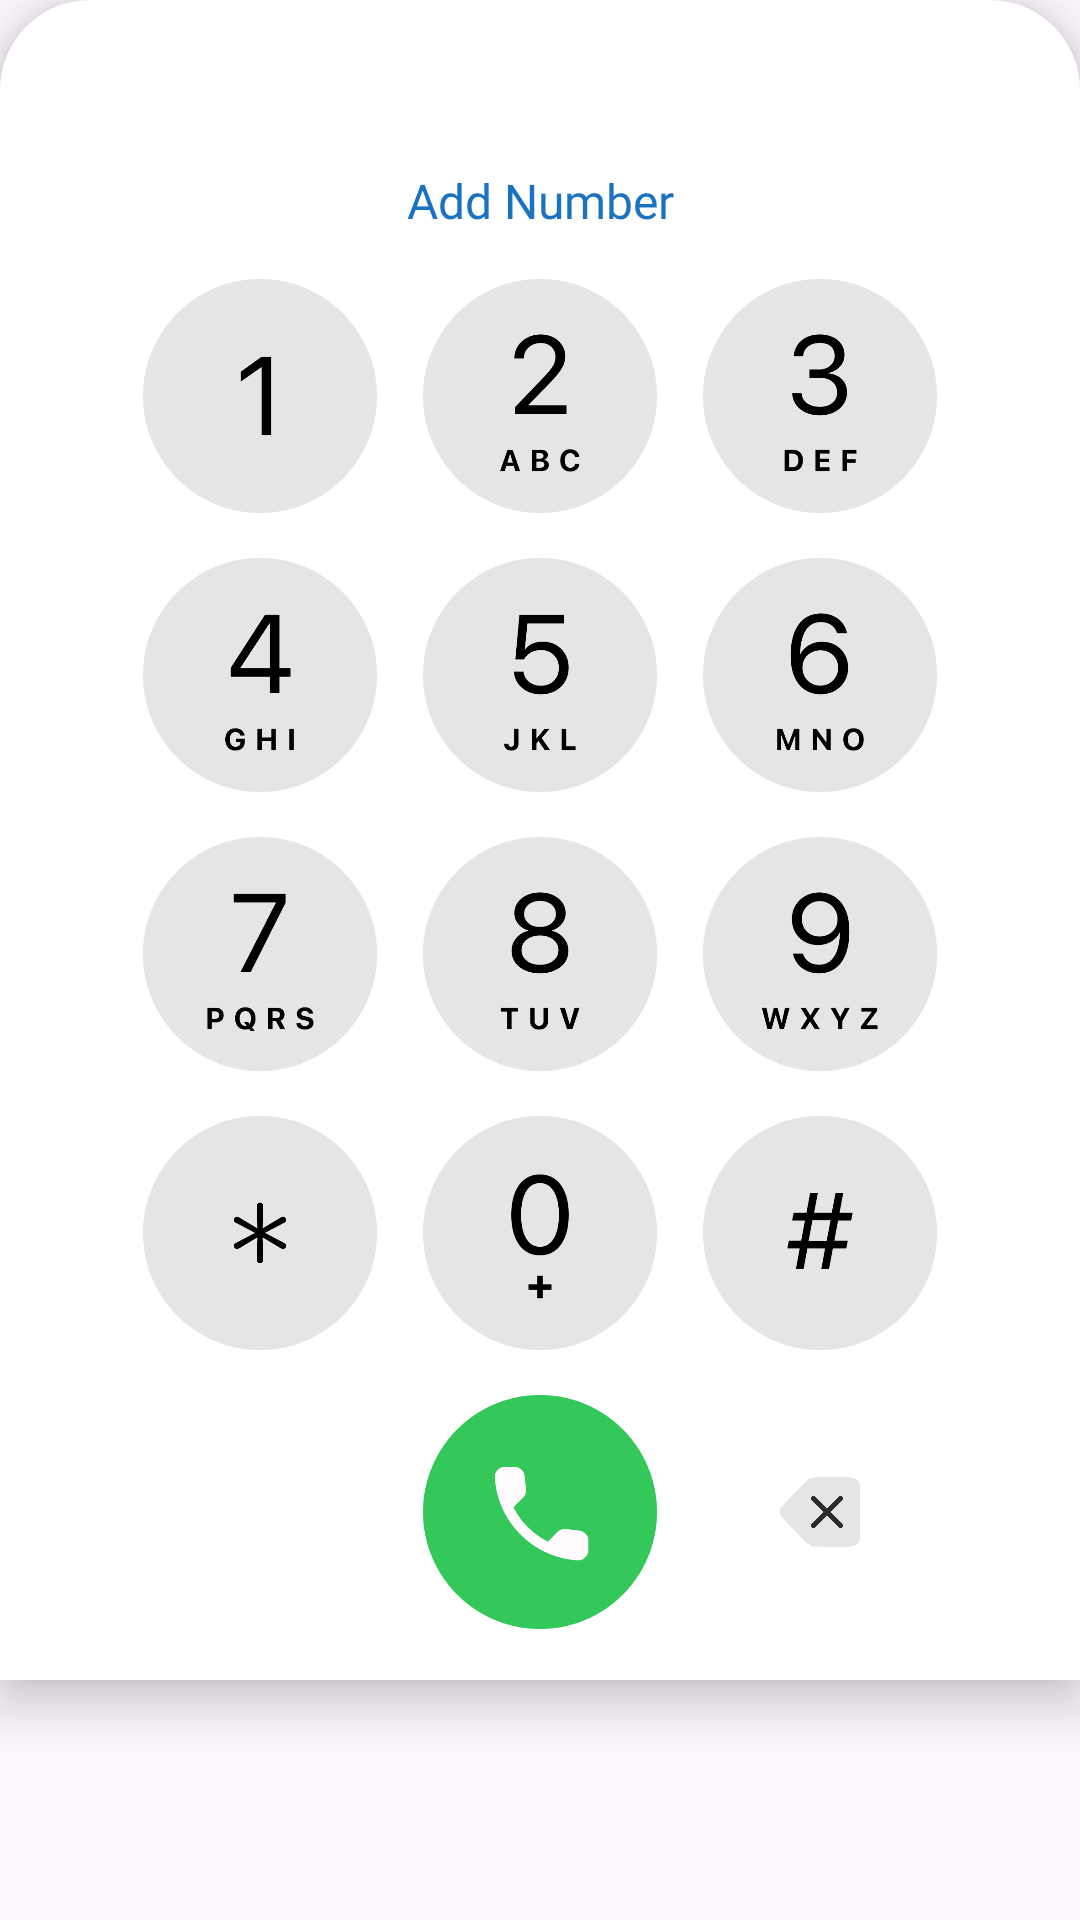

Named icons in this screenshot (1080w x 1920h) and their bounding boxes, box=[x1, y1, x2, y2]:
backpress: box=[780, 1478, 860, 1547]
bnt call: box=[423, 1395, 657, 1629]
hash: box=[703, 1116, 937, 1350]
star: box=[143, 1116, 377, 1350]
